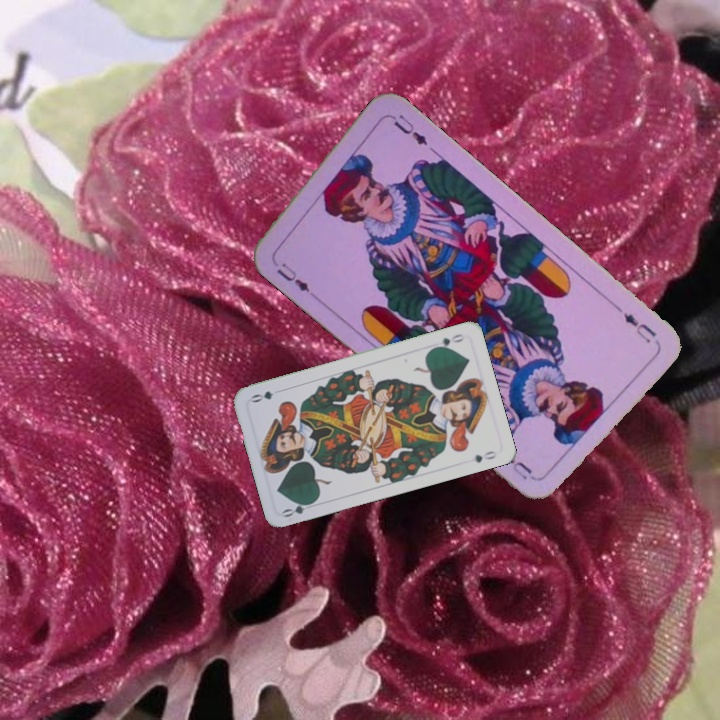EU: (272, 258, 313, 295), (619, 308, 659, 345)
GO: (279, 497, 319, 520), (428, 330, 467, 352)
